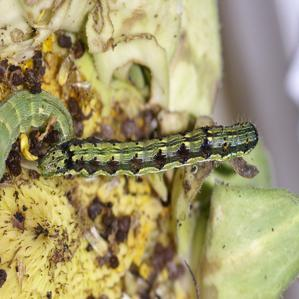Cotton bollworm: (38, 81, 267, 204)
